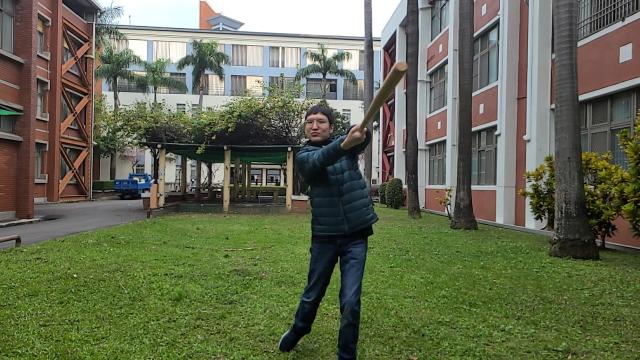bat: (359, 61, 408, 132)
